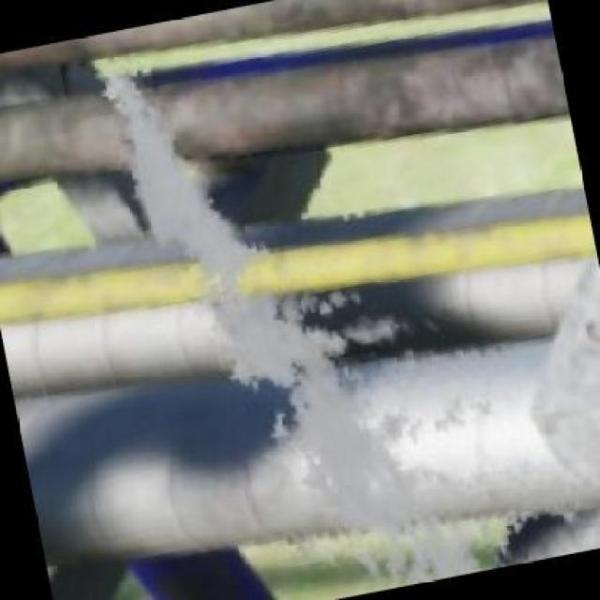gas: (75, 51, 345, 412)
